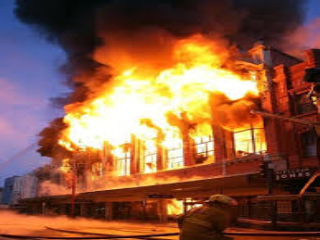fire: (41, 65, 264, 177)
smoke: (14, 3, 291, 46)
